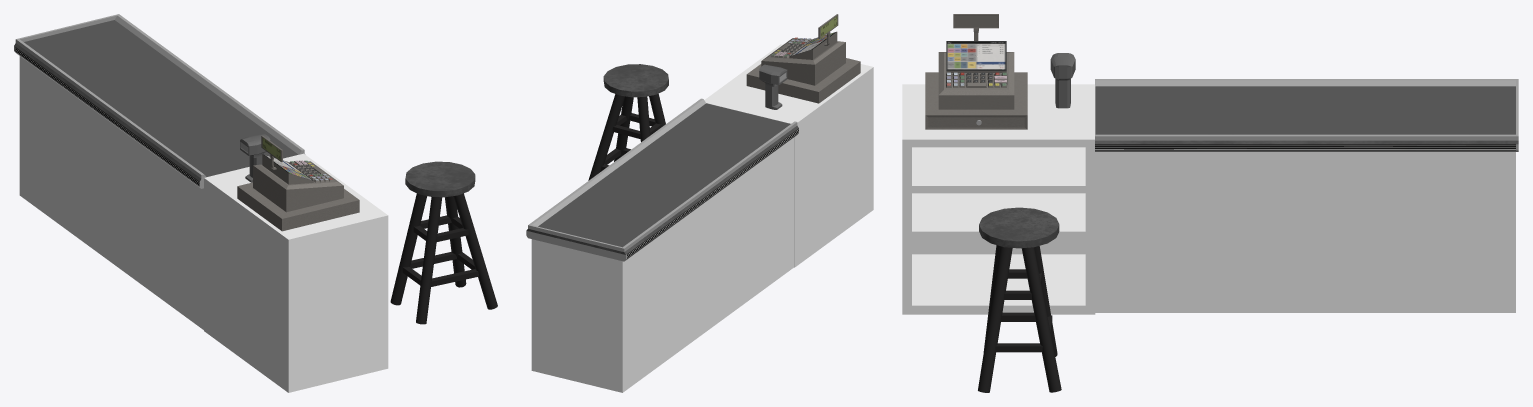
Rendered from cash register.fbx.
3 views of the same model, side by side, from view 1: azimuth 30°, elevation 25°; view 2: azimuth 150°, elevation 25°; view 3: azimuth 270°, elevation 25° (orthographic). The views are drawn at different scales.
Parts seen in each view (by area): view 1: Cash_register; view 2: Cash_register; view 3: Cash_register.
Part boxes in pixels (bbox=[...]): Cash_register: bbox=[14, 14, 497, 392]; Cash_register: bbox=[526, 14, 873, 392]; Cash_register: bbox=[902, 14, 1518, 392].
Size of the model in its own units: 1.37 by 1.18 by 2.58.
2 materials, 2 textured.
